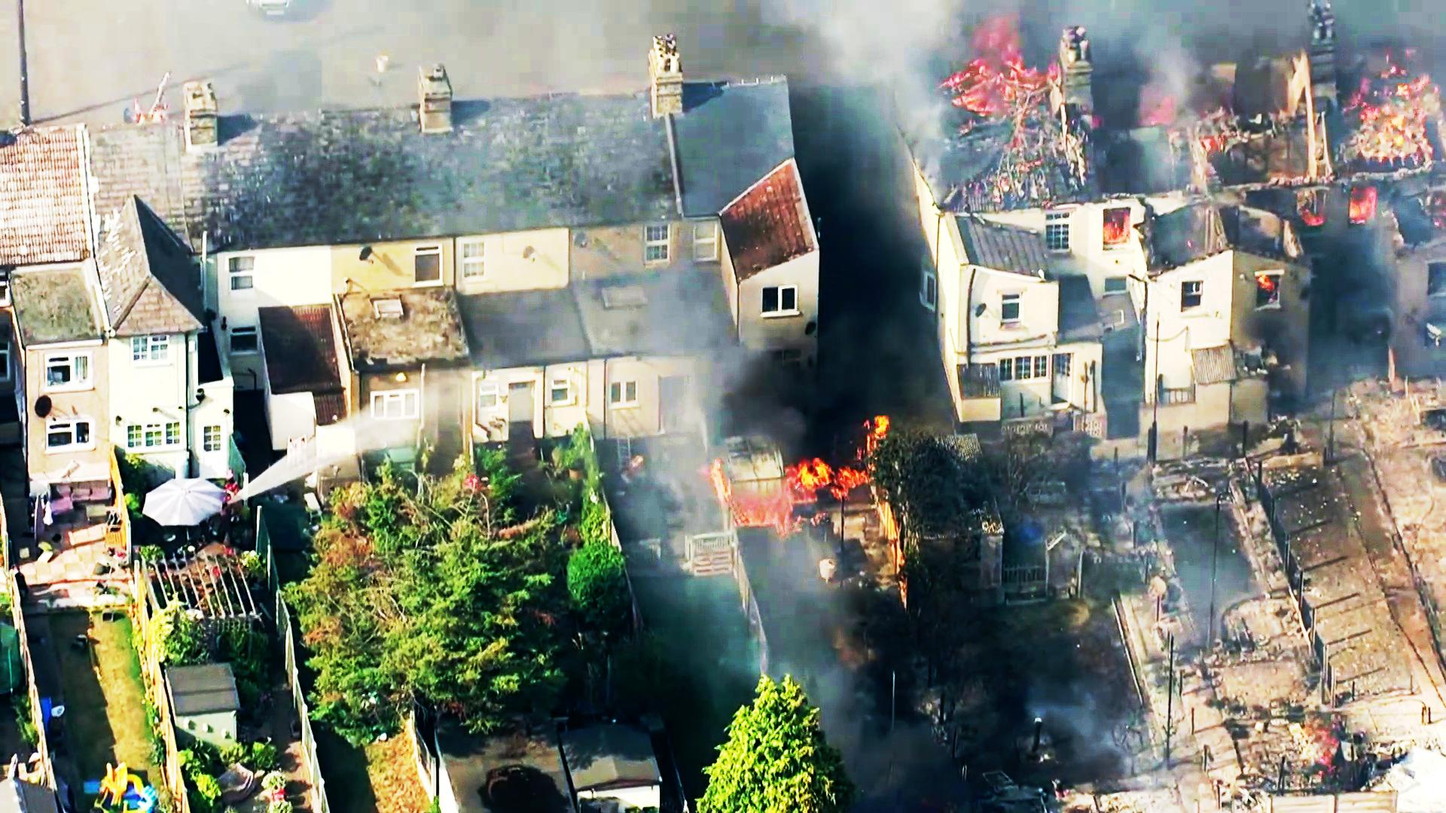fire: (677, 418, 885, 542), (933, 15, 1064, 132), (1347, 70, 1436, 169)
